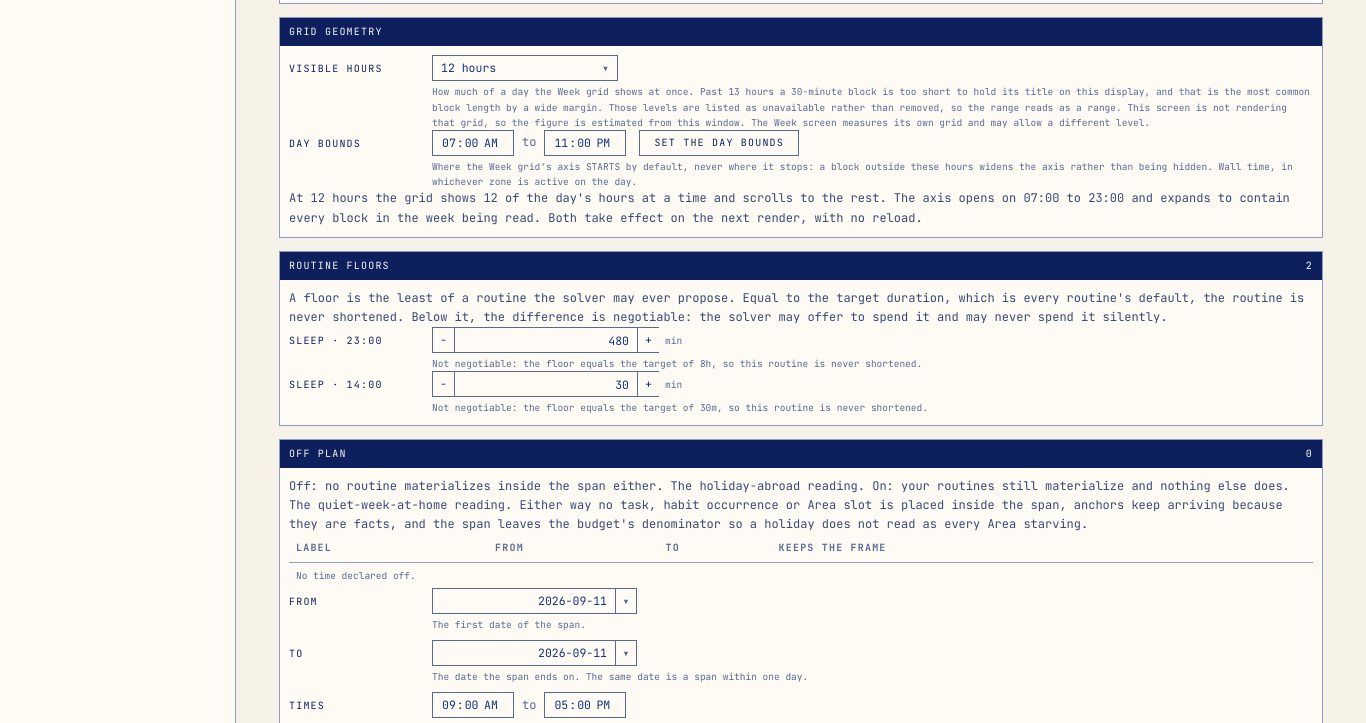
it: the routine floors › states the api's refusal under the routine that caused it, and under no other
The width and height of the screenshot is (1366, 723).
(page scrolled)
Replace the text in the number field labelled "Sleep · 14:00" with "45": (546, 384) [454,371,637,397]
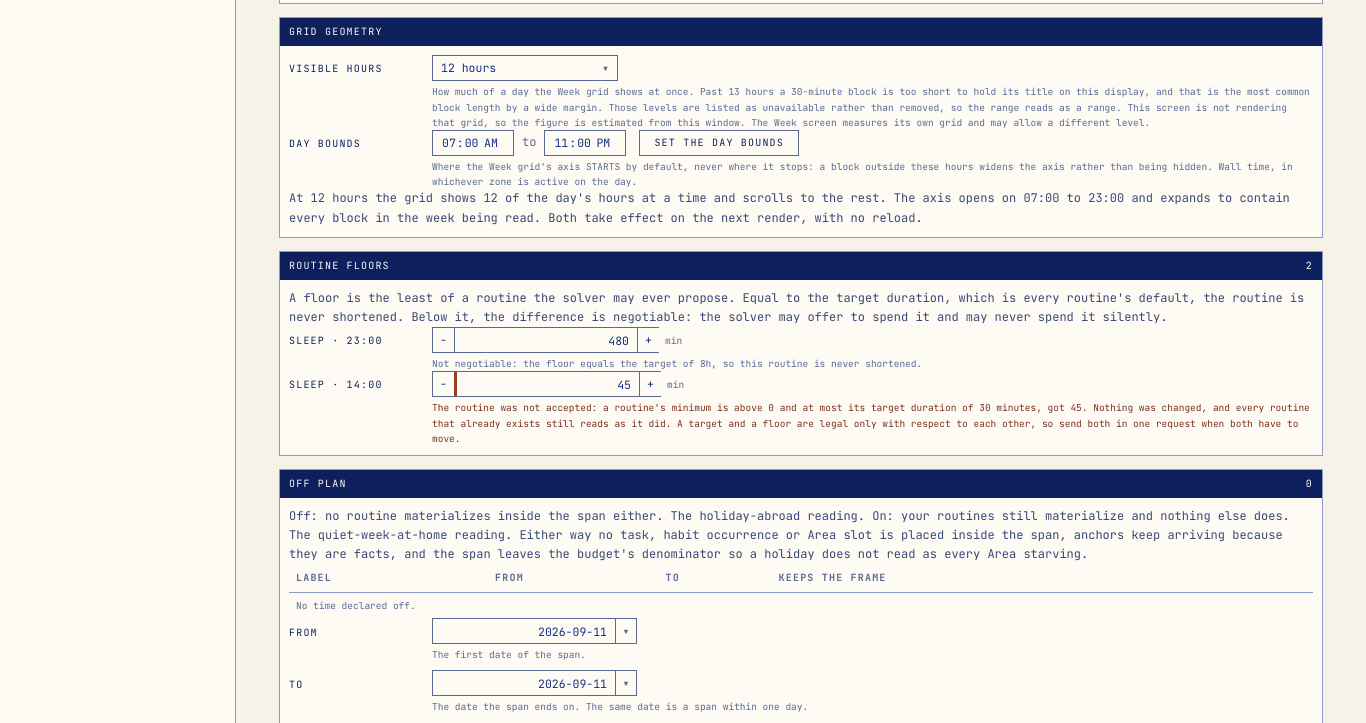
Expected: the text "at most its target duration of 30 minutes, got 45." is shown once, [432,400,1313,446]
Result: the text "at most its target duration of 30 minutes, got 45." is shown at [432,401,1310,445]
